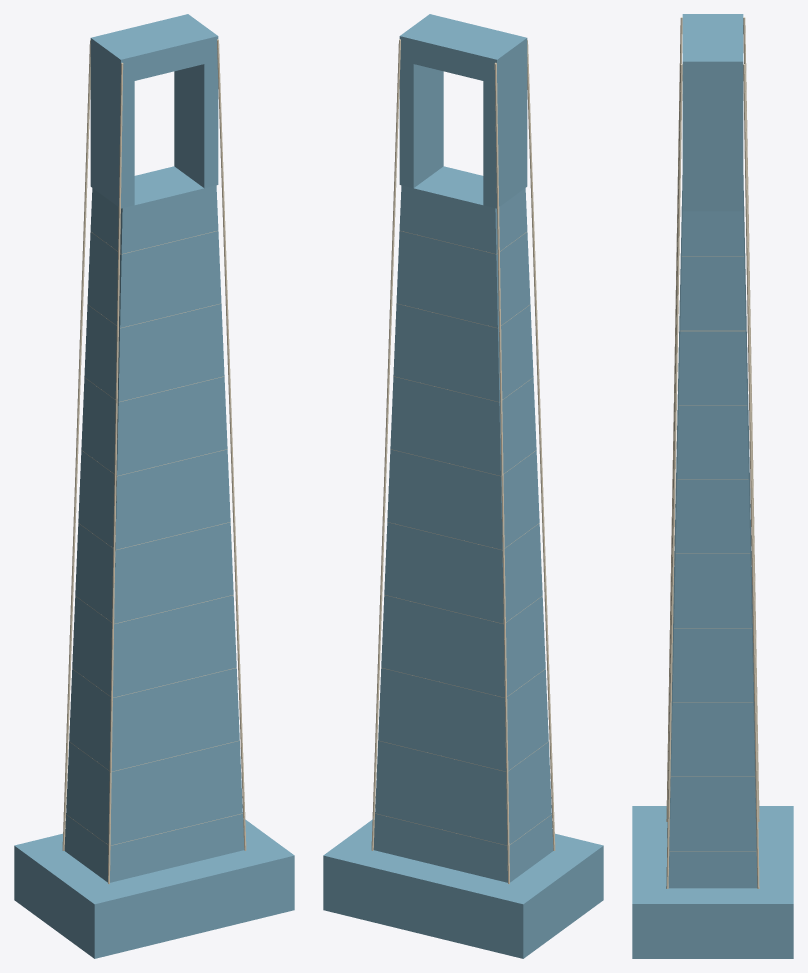
Rendered from swfc-lod2.glb.
The picture shows the model from 3 angles, left to right: view 1: azimuth 30°, elevation 25°; view 2: azimuth 150°, elevation 25°; view 3: azimuth 270°, elevation 25°; orthographic projection.
Parts seen in each view (by area): view 1: swfc_architecture; view 2: swfc_architecture; view 3: swfc_architecture.
Part boxes in pixels (bbox=[...]): swfc_architecture: bbox=[14, 14, 294, 958]; swfc_architecture: bbox=[323, 14, 603, 958]; swfc_architecture: bbox=[632, 14, 793, 958].
Size of the model in its own units: 23 by 95.35 by 16.
